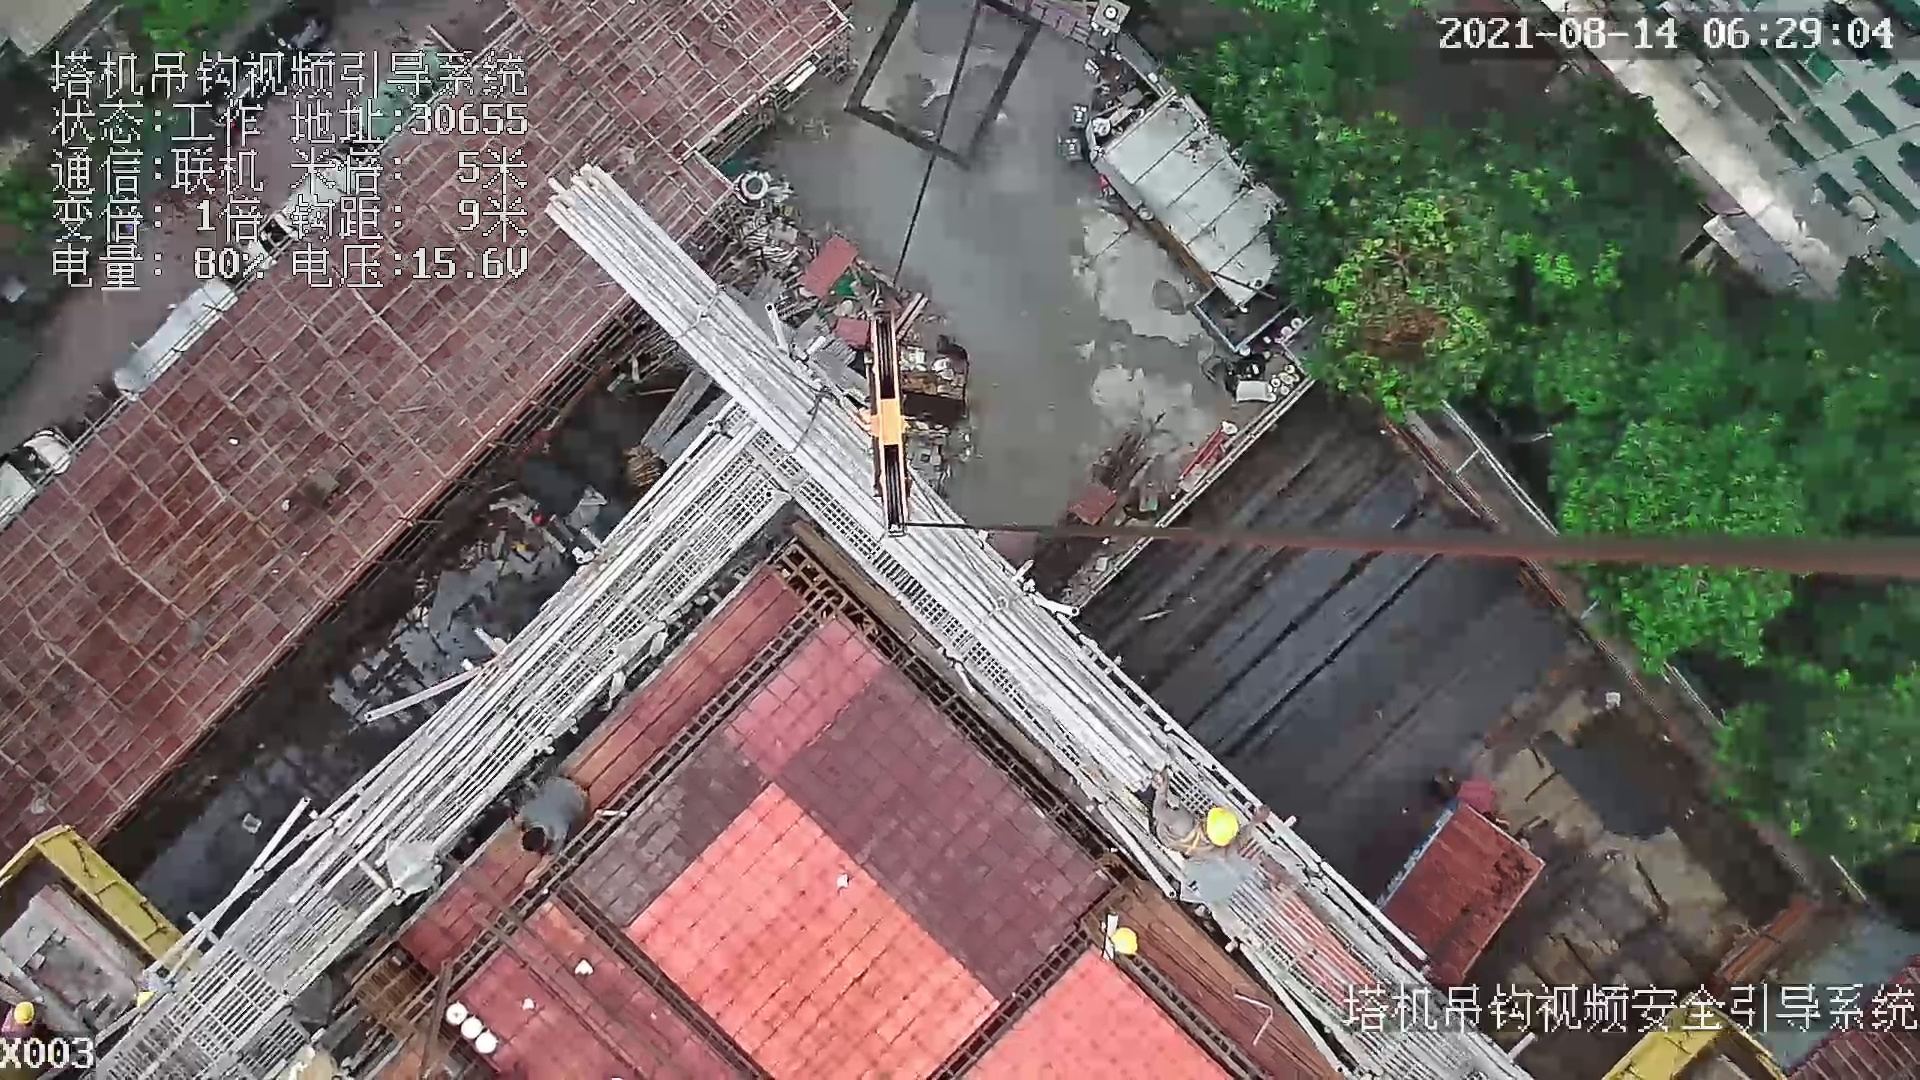helmet: (1203, 801, 1245, 853), (1117, 924, 1141, 963)
hook: (862, 313, 912, 539)
person: (1151, 769, 1260, 859)
rebar: (1163, 414, 1523, 805)
